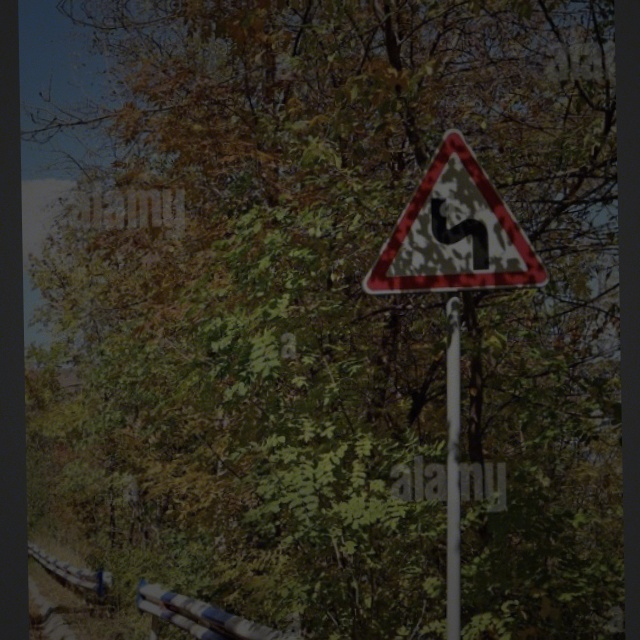Left_Reverse_Bend: (376, 141, 538, 289)
